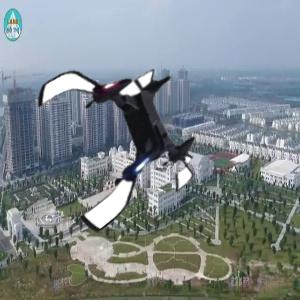drone: (28, 47, 204, 223)
